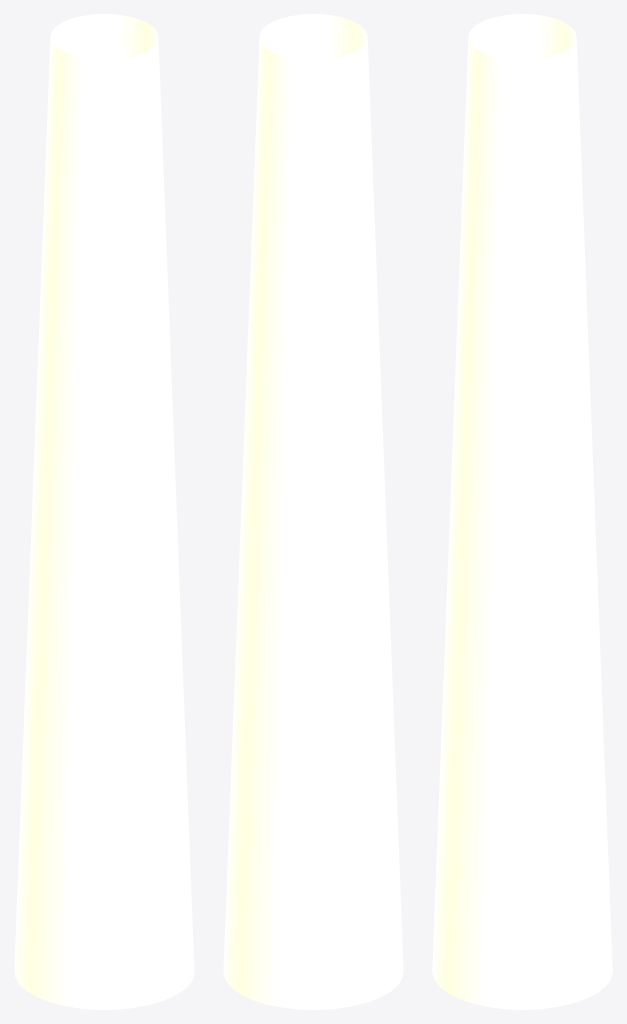
The model's file is Beam_Treasure.fbx.
3 views of the same model, side by side, from view 1: azimuth 30°, elevation 25°; view 2: azimuth 150°, elevation 25°; view 3: azimuth 270°, elevation 25° (orthographic).
Parts seen in each view (by area): view 1: Beam_Treasure; view 2: Beam_Treasure; view 3: Beam_Treasure.
Part boxes in pixels (<box>): Beam_Treasure: <box>14,14,194,1009</box>; Beam_Treasure: <box>223,14,403,1009</box>; Beam_Treasure: <box>432,14,612,1009</box>.
Bounding box in the file's own units: 2.8 × 16 × 2.8.
